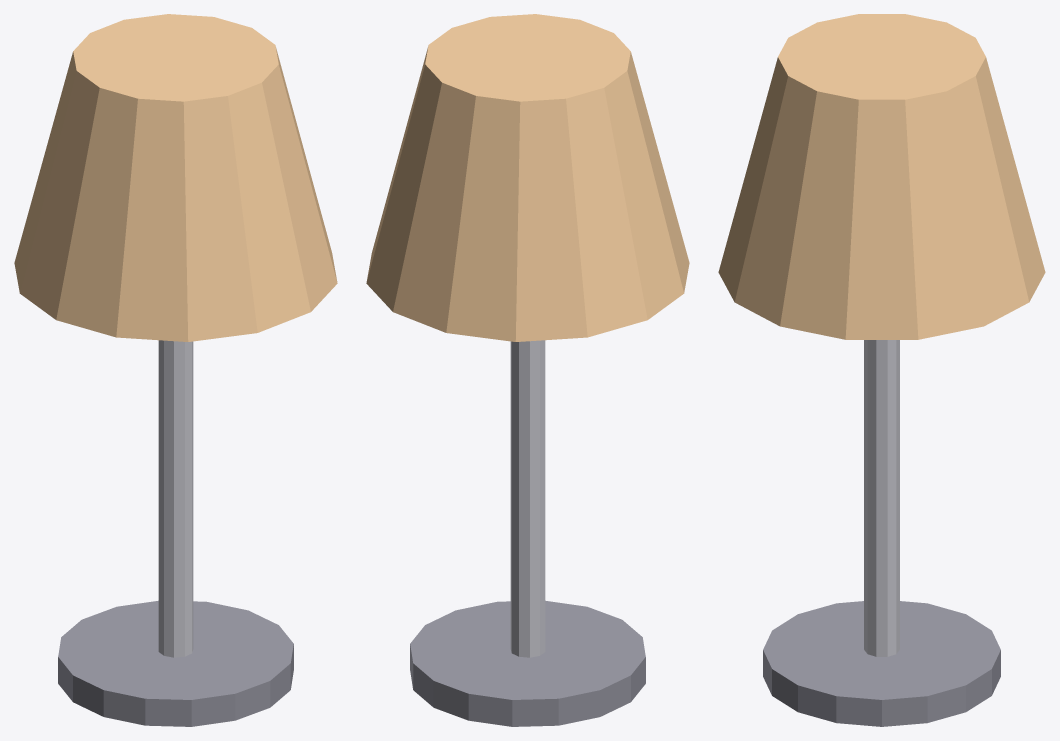
File: deco_lampada_01.glb
3 renders of one model, left to right at view 1: azimuth 30°, elevation 25°; view 2: azimuth 150°, elevation 25°; view 3: azimuth 270°, elevation 25°, orthographic.
Visible parts, largest first — view 1: deco_lampada_01_shade, deco_lampada_01_base; view 2: deco_lampada_01_shade, deco_lampada_01_base; view 3: deco_lampada_01_shade, deco_lampada_01_base.
Boxes of the visible parts, x1,y1,x2,y2 form: deco_lampada_01_shade: [14, 14, 337, 341]; deco_lampada_01_base: [58, 340, 293, 726]; deco_lampada_01_shade: [366, 14, 689, 341]; deco_lampada_01_base: [410, 340, 645, 726]; deco_lampada_01_shade: [718, 14, 1045, 339]; deco_lampada_01_base: [763, 340, 1000, 726].
Bounding box in the file's own units: 0.2145 × 0.46 × 0.22.
